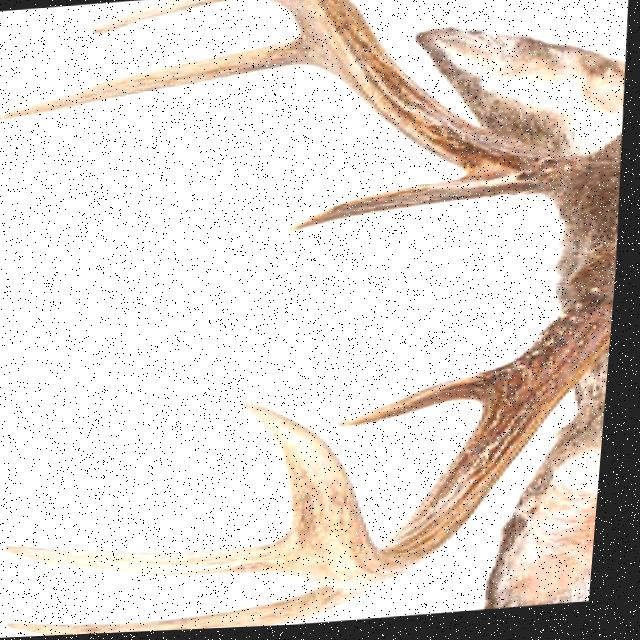L-F: (245, 309, 619, 592)
L-G1: (337, 367, 517, 431)
L-G2: (13, 590, 381, 637)
L-G3: (11, 536, 308, 579)
R-F: (269, 0, 593, 201)
R-G1: (286, 179, 485, 238)
R-G2: (0, 40, 313, 122)
R-G3: (89, 0, 259, 36)
